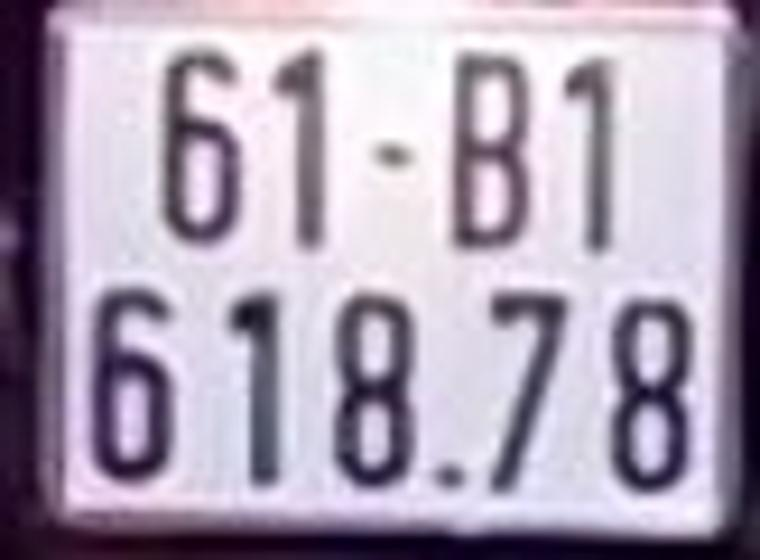-: (371, 142, 416, 171)
.: (431, 458, 463, 491)
1: (266, 43, 329, 255), (217, 297, 286, 486), (559, 58, 617, 252)
6: (90, 286, 175, 483), (161, 44, 239, 240)
7: (482, 290, 563, 491)
8: (333, 287, 417, 483), (611, 299, 689, 492)
B: (448, 44, 525, 249)
